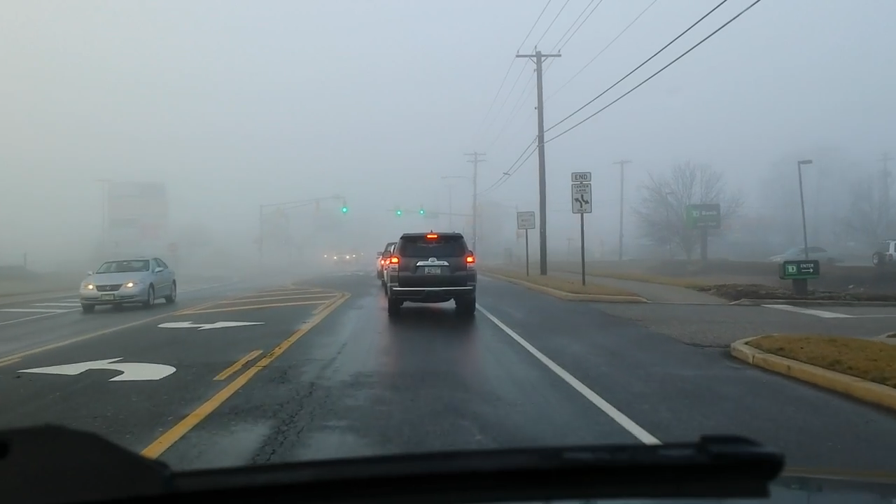car: (382, 230, 477, 318), (74, 255, 180, 313), (382, 244, 459, 298), (377, 239, 437, 283), (766, 244, 840, 269), (870, 237, 896, 268), (331, 247, 353, 265)
